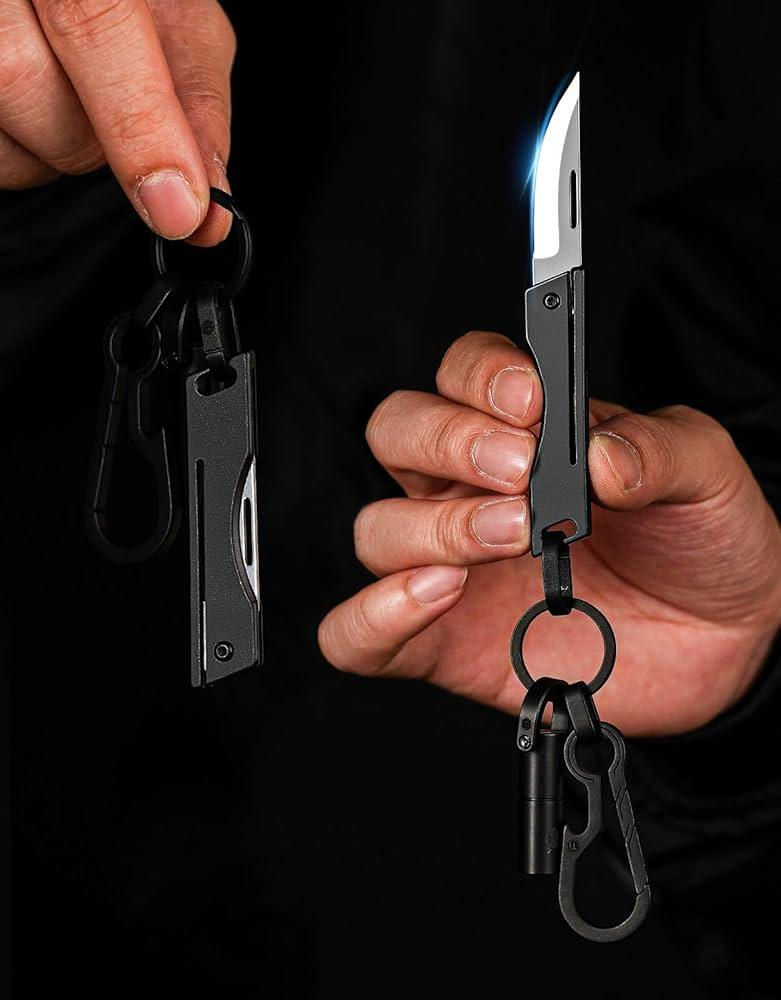Knife: (0, 0, 781, 1000), (326, 328, 781, 737), (520, 70, 602, 555)
